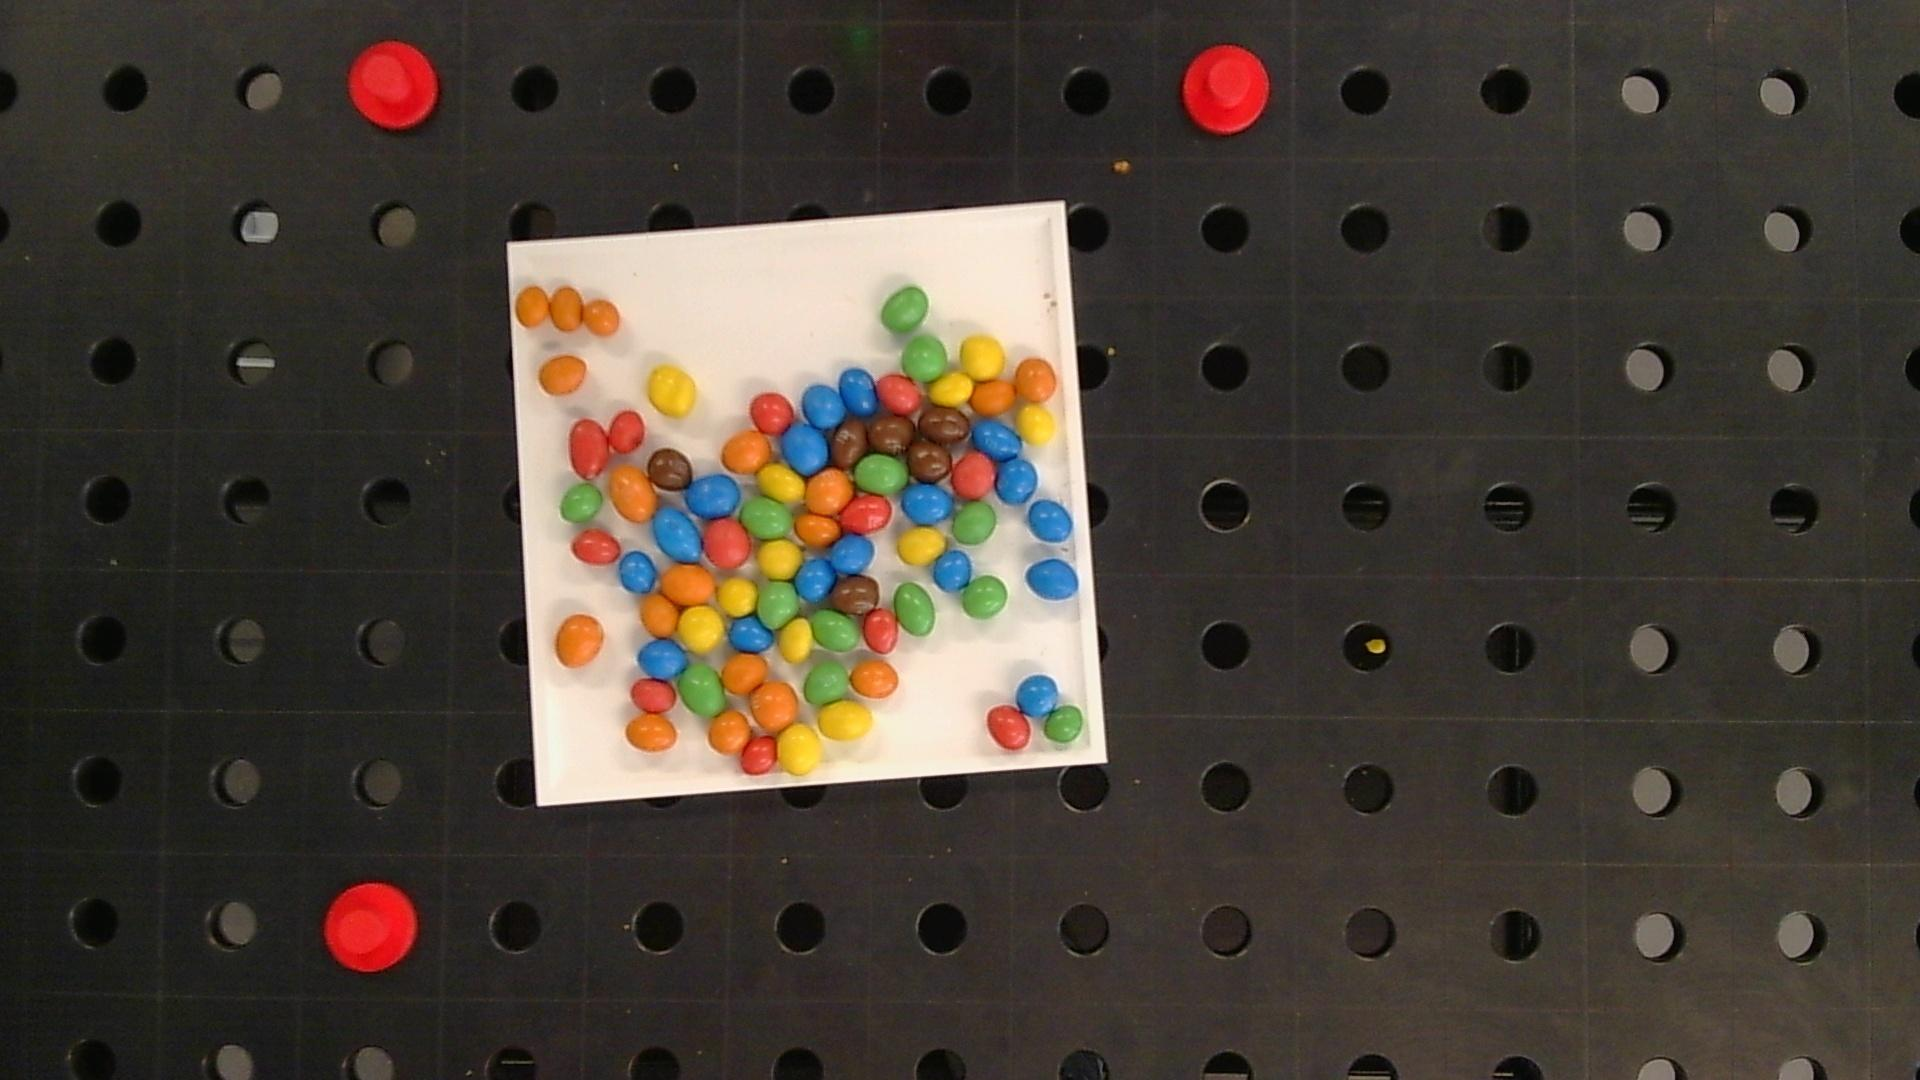blue: (654, 508, 702, 562), (686, 475, 741, 517), (782, 425, 828, 473), (1026, 559, 1079, 600), (901, 484, 953, 524), (972, 421, 1021, 460), (1029, 500, 1072, 543), (839, 369, 880, 415), (640, 638, 686, 678), (997, 459, 1038, 502), (803, 385, 844, 427), (832, 533, 874, 574), (1017, 675, 1059, 715), (796, 558, 836, 600), (729, 616, 773, 651), (934, 550, 971, 591), (620, 553, 657, 592)
brown: (647, 447, 692, 491), (920, 406, 971, 443), (909, 440, 952, 481), (869, 414, 914, 454), (833, 576, 880, 615), (832, 419, 868, 467)
green: (679, 663, 724, 715), (855, 452, 909, 495), (881, 286, 928, 332), (894, 583, 935, 636), (741, 497, 794, 538), (902, 335, 947, 380), (961, 576, 1009, 618), (952, 501, 997, 545), (812, 609, 858, 651), (804, 662, 849, 704), (758, 582, 799, 628), (1043, 705, 1085, 745), (559, 484, 603, 522)
orange: (609, 465, 657, 521), (555, 613, 604, 666), (750, 680, 798, 731), (661, 566, 715, 604), (806, 469, 853, 512), (723, 431, 771, 471), (625, 716, 678, 752), (708, 711, 750, 754), (1015, 357, 1058, 401), (539, 356, 587, 394), (851, 661, 899, 698), (723, 654, 766, 694), (641, 592, 678, 636), (969, 380, 1015, 414), (550, 286, 583, 330), (795, 514, 840, 546), (516, 286, 549, 326), (584, 299, 620, 335)
red: (568, 419, 608, 479), (704, 520, 750, 567), (986, 705, 1031, 749), (876, 375, 923, 414), (750, 392, 794, 434), (952, 454, 994, 497), (841, 496, 891, 531), (571, 530, 620, 563), (608, 410, 645, 452), (864, 608, 898, 653), (630, 679, 675, 712), (740, 737, 777, 774)
yellow: (647, 365, 696, 417), (777, 724, 820, 774), (816, 702, 873, 740), (679, 607, 725, 651), (960, 336, 1005, 378), (758, 464, 804, 502), (898, 527, 945, 564), (758, 542, 802, 579), (1018, 405, 1055, 444), (779, 618, 812, 662), (717, 578, 756, 615), (930, 373, 972, 404)
